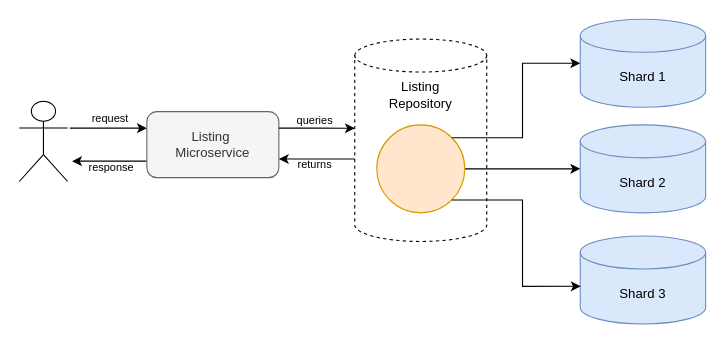
The diagram is 725 pixels wide and 343 high, and some of its shapes have lost their labels. The centre of each missing label's shape, as x and y in pixels:
Load Balancer: (420,168)
User: (43,141)
